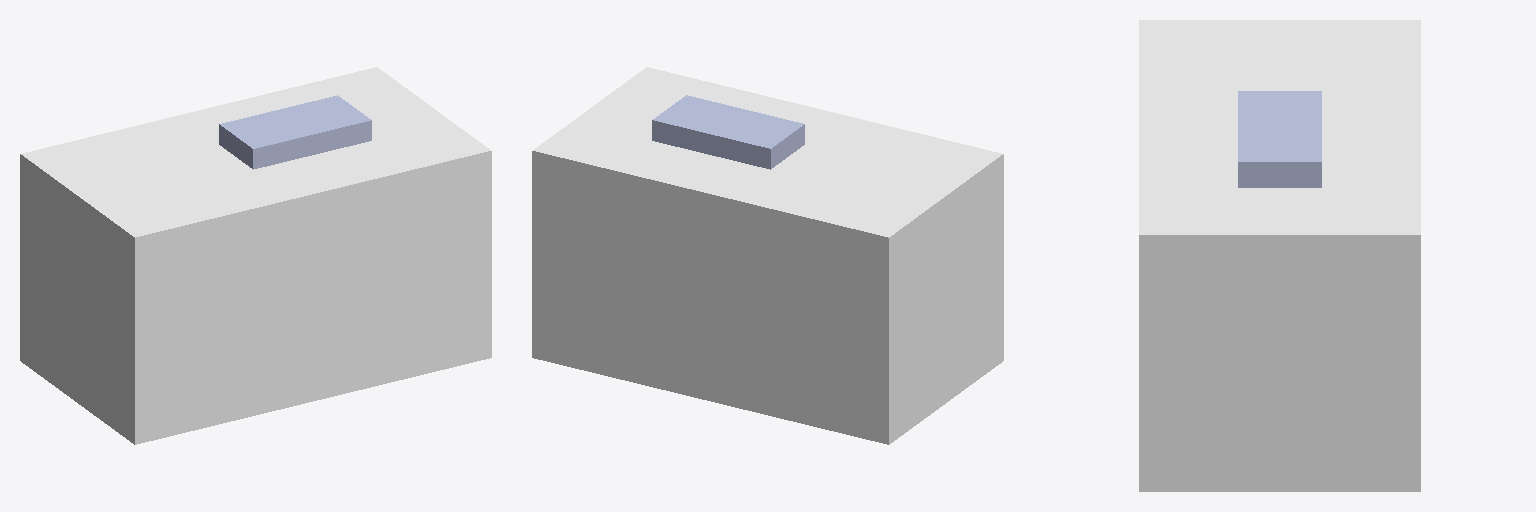
The robot description file, URDF, robot "demo1-3":
<?xml version="1.0" encoding="utf-8"?>
<!-- This URDF was automatically created by SolidWorks to URDF Exporter! Originally created by [author] ([email redacted]) 
     Commit Version: 1.6.0-4-g7f85cfe  Build Version: 1.6.7995.38578
     For more information, please see http://wiki.ros.org/sw_urdf_exporter -->
<robot
  name="demo1-3">
  <link
    name="base_link">
    <inertial>
      <origin
        xyz="0.059269 -0.004969 0.17749"
        rpy="0 0 0" />
      <mass
        value="1.746" />
      <inertia
        ixx="0.0029237"
        ixy="3.8969E-05"
        ixz="-6.1279E-19"
        iyy="0.0063175"
        iyz="9.5233E-20"
        izz="0.0062493" />
    </inertial>
    <visual>
      <origin
        xyz="0 0 0"
        rpy="0 0 0" />
      <geometry>
        <mesh
          filename="package://test_urdf/meshes/base_link.STL" />
      </geometry>
      <material
        name="">
        <color
          rgba="1 1 1 1" />
      </material>
    </visual>
    <collision>
      <origin
        xyz="0 0 0"
        rpy="0 0 0" />
      <geometry>
        <mesh
          filename="package://test_urdf/meshes/base_link.STL" />
      </geometry>
    </collision>
  </link>
  <link
    name="front_Link">
    <inertial>
      <origin
        xyz="0.0022355 0.01995 -0.00025958"
        rpy="0 0 0" />
      <mass
        value="0.071103" />
      <inertia
        ixx="1.4695E-05"
        ixy="-5.6331E-22"
        ixz="-2.0294E-22"
        iyy="2.6451E-05"
        iyz="-5.6257E-22"
        izz="3.0622E-05" />
    </inertial>
    <visual>
      <origin
        xyz="0 0 0"
        rpy="0 0 0" />
      <geometry>
        <mesh
          filename="package://test_urdf/meshes/front_Link.STL" />
      </geometry>
      <material
        name="">
        <color
          rgba="0.79216 0.81961 0.93333 1" />
      </material>
    </visual>
    <collision>
      <origin
        xyz="0 0 0"
        rpy="0 0 0" />
      <geometry>
        <mesh
          filename="package://test_urdf/meshes/front_Link.STL" />
      </geometry>
    </collision>
  </link>
  <joint
    name="line_joint"
    type="fixed">
    <origin
      xyz="0.077552 -0.17785 0.016113"
      rpy="1.5708 0 0" />
    <parent
      link="base_link" />
    <child
      link="front_Link" />
    <axis
      xyz="0 0 0" />
  </joint>
</robot>

--- Facts derived from the render (not from the file) ---
Views: 3 orthographic renders of the robot side by side, from view 1: azimuth 30°, elevation 25°; view 2: azimuth 150°, elevation 25°; view 3: azimuth 270°, elevation 25°.
Model demo1-3 with 2 links and 1 joints (1 fixed), rooted at base_link, posed every joint at zero.
Links seen in each view (by area): view 1: base_link, front_Link; view 2: base_link, front_Link; view 3: base_link, front_Link.
Link boxes in pixels (<box>): base_link: <box>20,67,491,444</box>; front_Link: <box>219,95,371,169</box>; base_link: <box>532,67,1003,444</box>; front_Link: <box>652,95,804,169</box>; base_link: <box>1139,20,1420,491</box>; front_Link: <box>1238,91,1321,187</box>.
Bounding box of the posed robot: 0.18 × 0.1 × 0.1099 m (x, y, z).
Meshes: 2 distinct files referenced, 2 mesh visuals loaded (2 binary STL).